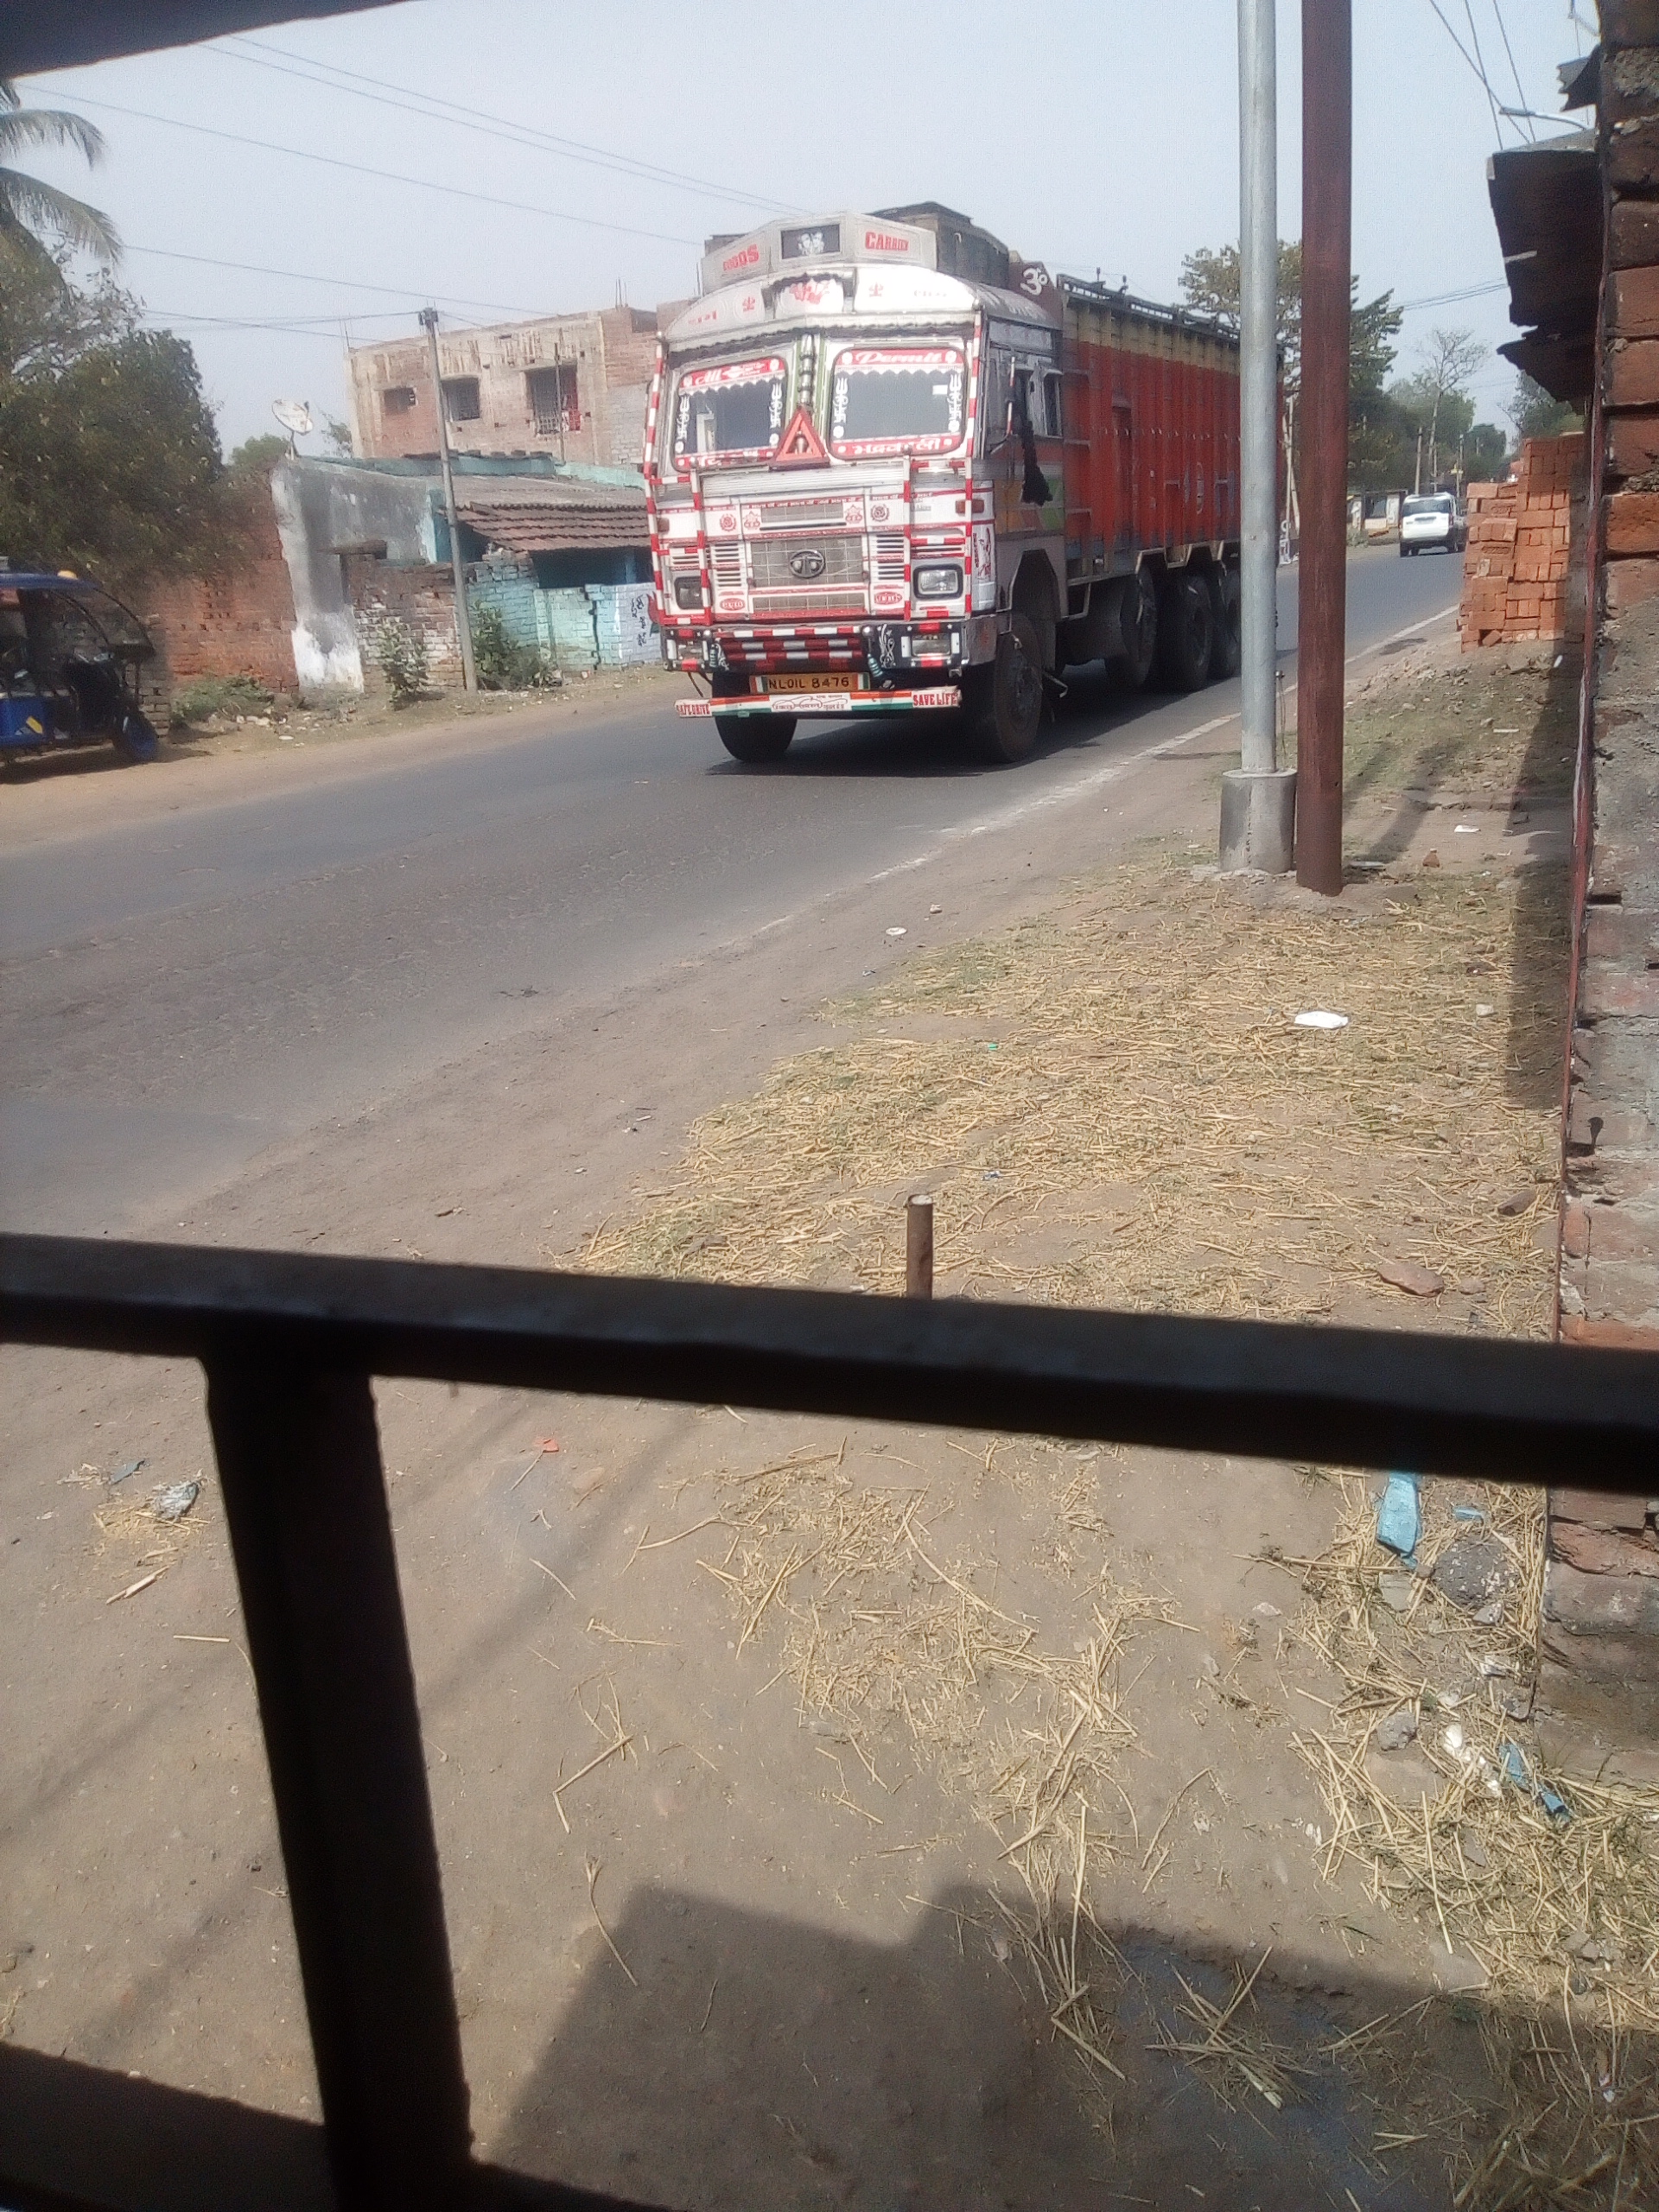truck: (636, 197, 1291, 766)
